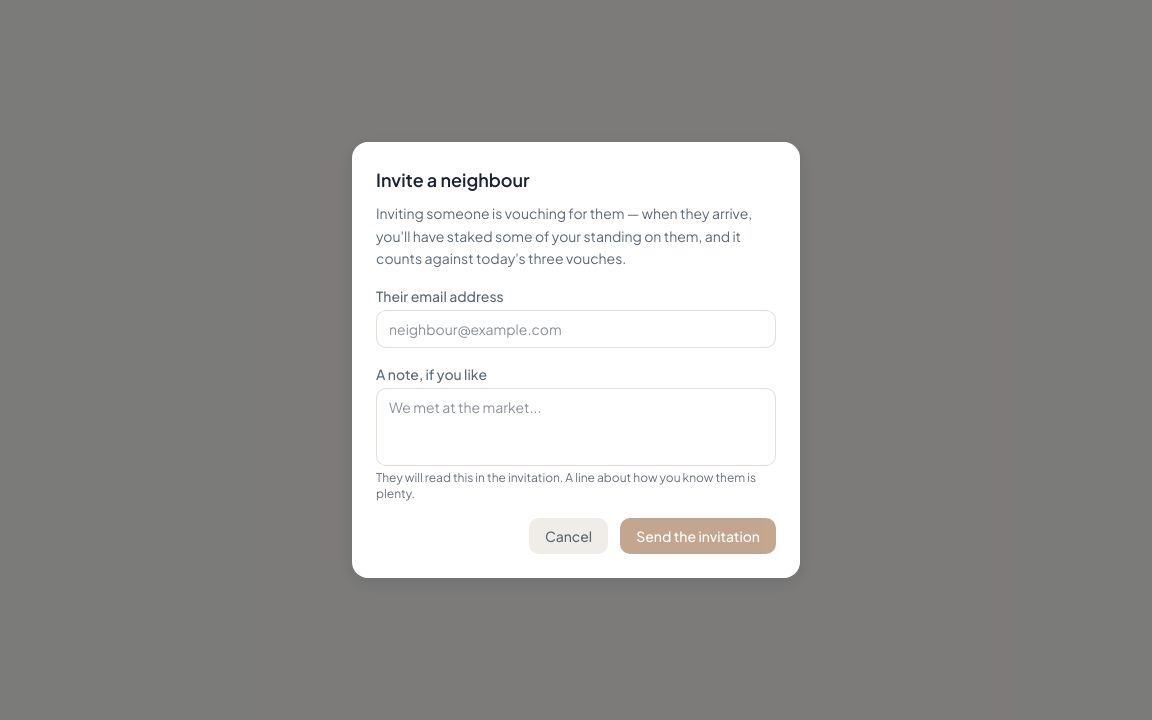
Test: InviteDialog after sending › shows the link, and says the email is on its way
In the field labelled "Their email address": (576, 329) [376,310,776,348], type "newcomer@example.com"
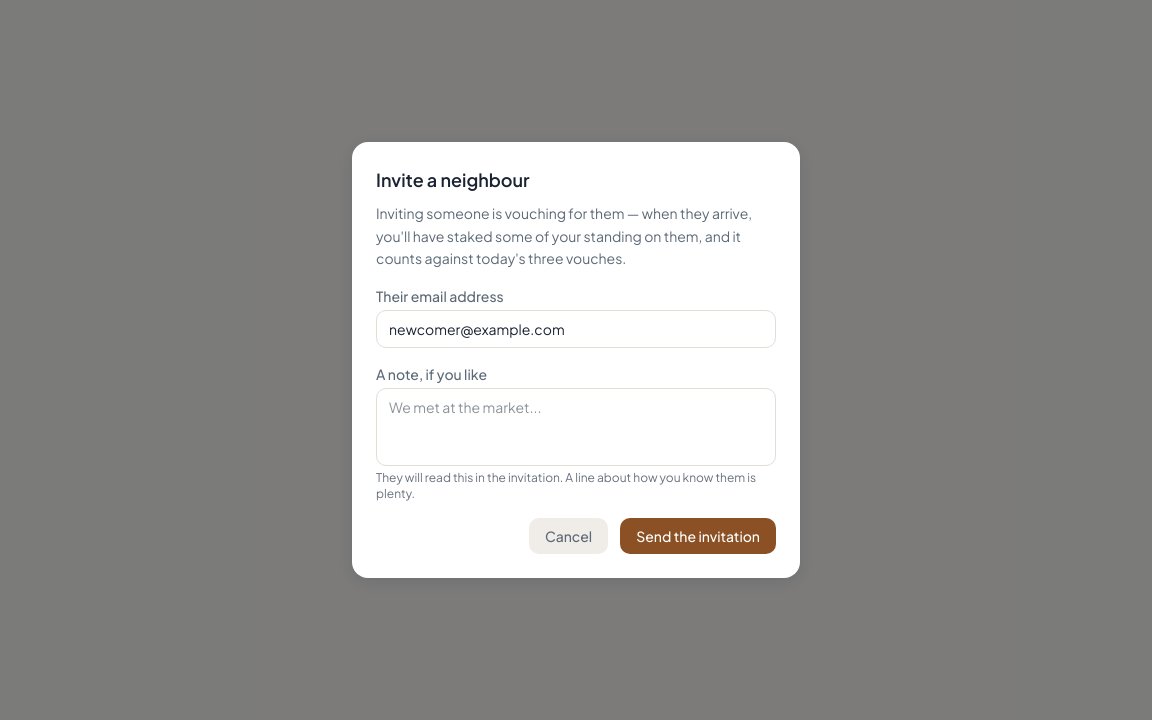
Click the button "Send the invitation": (698, 536) [620,518,776,554]
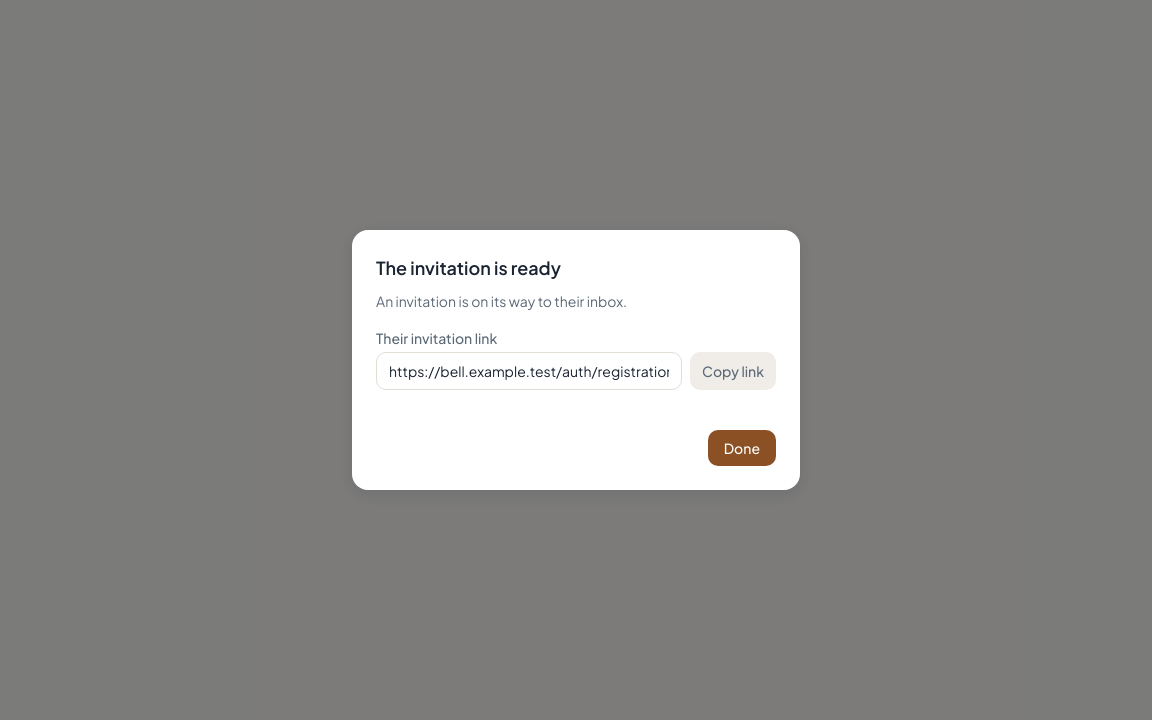
Check: the text "An invitation is on its way to their inbox." is shown, box [376,292,627,310]
Check: the field labelled "Their invitation link" holds "https://bell.example.test/auth/registration?invite=tok-abc", box [376,352,682,390]
